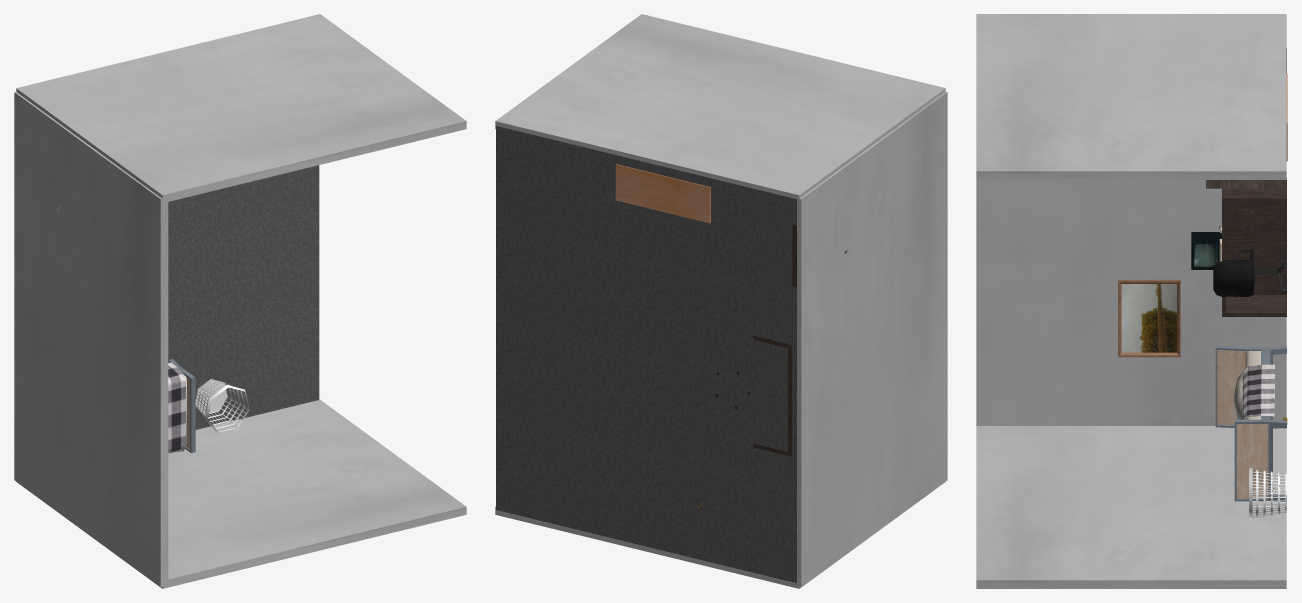
File: bedroom.glb
3 views of the same model, side by side, from view 1: azimuth 30°, elevation 25°; view 2: azimuth 150°, elevation 25°; view 3: azimuth 270°, elevation 25° (orthographic). The views are drawn at different scales.
Parts seen in each view (by area): view 1: Wall_02, Wall_03, Wall_01, Floor, Hamper, Blanket, Bed; view 2: Floor, Wall_02, Wall_03, Dresser, Wall_01, Table; view 3: Wall_02, Wall_03, Wall_01, Table, Bed, Painting, Chair, Blanket, Hamper, Old_Monitor, Bookshelf.
Part boxes in pixels (left/top/right/bottom): Wall_02: left=14, top=92, right=168, bottom=586; Wall_03: left=16, top=14, right=466, bottom=202; Wall_01: left=17, top=400, right=466, bottom=588; Floor: left=168, top=165, right=319, bottom=429; Hamper: left=195, top=379, right=249, bottom=432; Blanket: left=168, top=362, right=185, bottom=453; Bed: left=169, top=359, right=195, bottom=453; Floor: left=496, top=126, right=796, bottom=583; Wall_02: left=795, top=92, right=947, bottom=586; Wall_03: left=495, top=14, right=945, bottom=202; Dresser: left=615, top=164, right=710, bottom=223; Wall_01: left=495, top=482, right=944, bottom=588; Table: left=753, top=335, right=791, bottom=456; Wall_02: left=976, top=180, right=1286, bottom=425; Wall_03: left=976, top=14, right=1286, bottom=179; Wall_01: left=976, top=426, right=1286, bottom=588; Table: left=1222, top=178, right=1286, bottom=316; Bed: left=1215, top=345, right=1286, bottom=501; Painting: left=1118, top=279, right=1180, bottom=357; Chair: left=1213, top=248, right=1286, bottom=297; Blanket: left=1242, top=364, right=1274, bottom=419; Hamper: left=1249, top=467, right=1286, bottom=520; Old_Monitor: left=1191, top=232, right=1221, bottom=269; Bookshelf: left=1206, top=180, right=1286, bottom=188.
Size of the model in its own units: 4.13 by 5.08 by 3.43.
31 materials, 31 textured.
